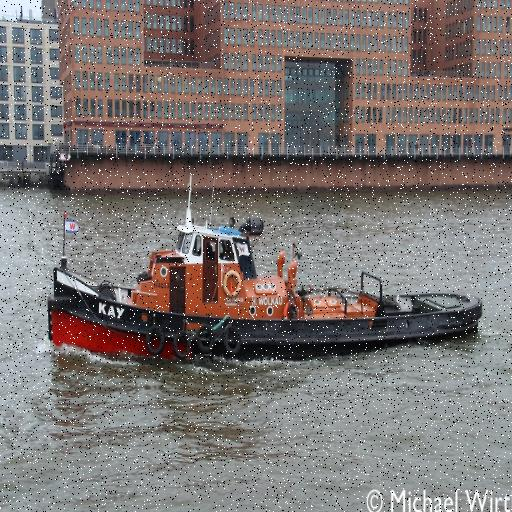tugboat: (45, 180, 486, 376)
